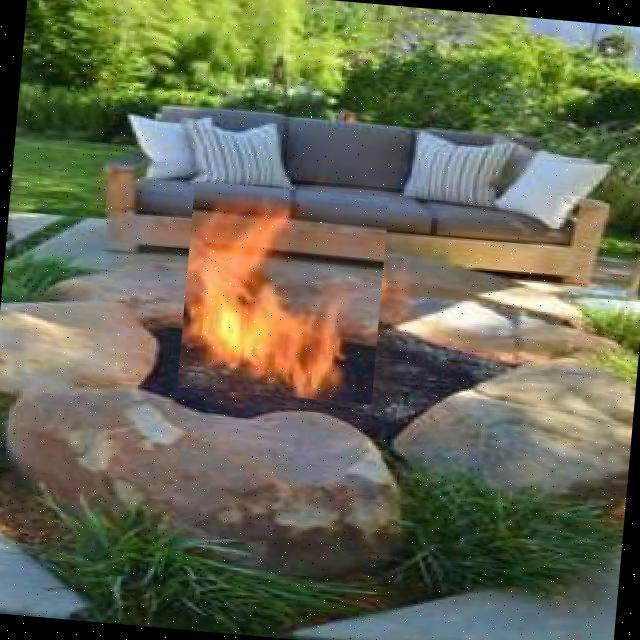fire: (177, 180, 389, 404)
